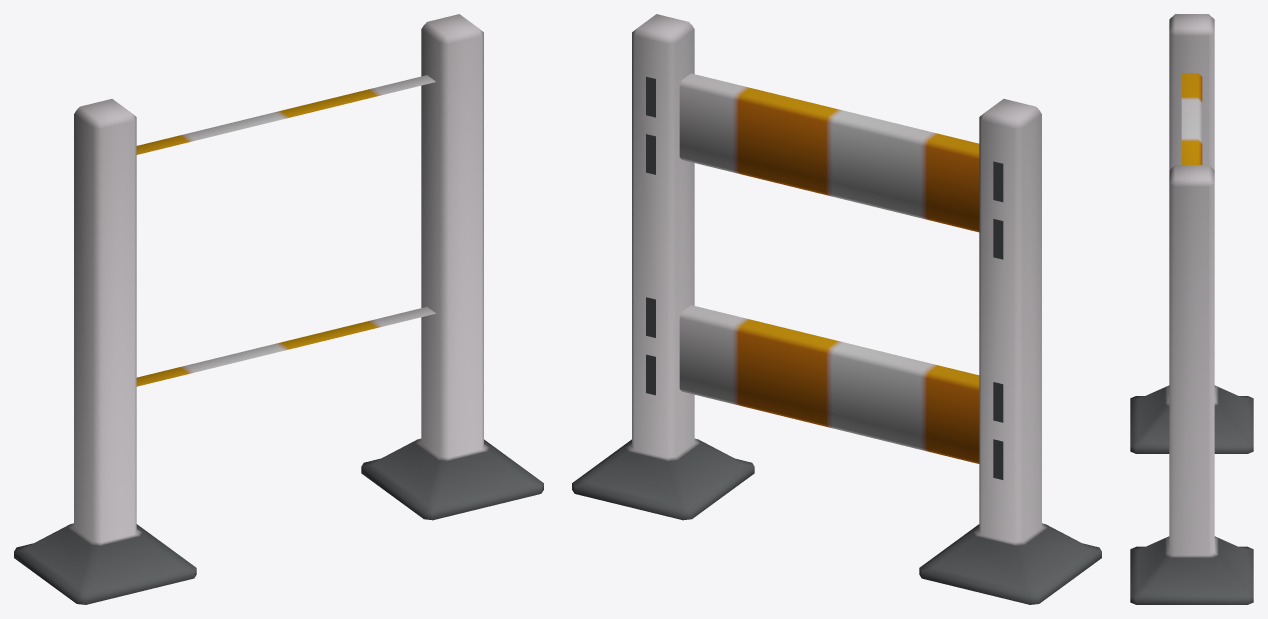
File: ObstacleRoadWorksBarrier_Death.glb
3 renders of one model, left to right at view 1: azimuth 30°, elevation 25°; view 2: azimuth 150°, elevation 25°; view 3: azimuth 270°, elevation 25°, orthographic. The views are drawn at different scales.
Parts seen in each view (by area): view 1: RoadWorksBarrier01; view 2: RoadWorksBarrier01; view 3: RoadWorksBarrier01.
Part boxes in pixels (bbox=[...]): RoadWorksBarrier01: bbox=[14, 14, 543, 604]; RoadWorksBarrier01: bbox=[572, 14, 1101, 604]; RoadWorksBarrier01: bbox=[1130, 14, 1253, 604].
Size of the model in its own units: 1.66 by 1.55 by 0.4257.
